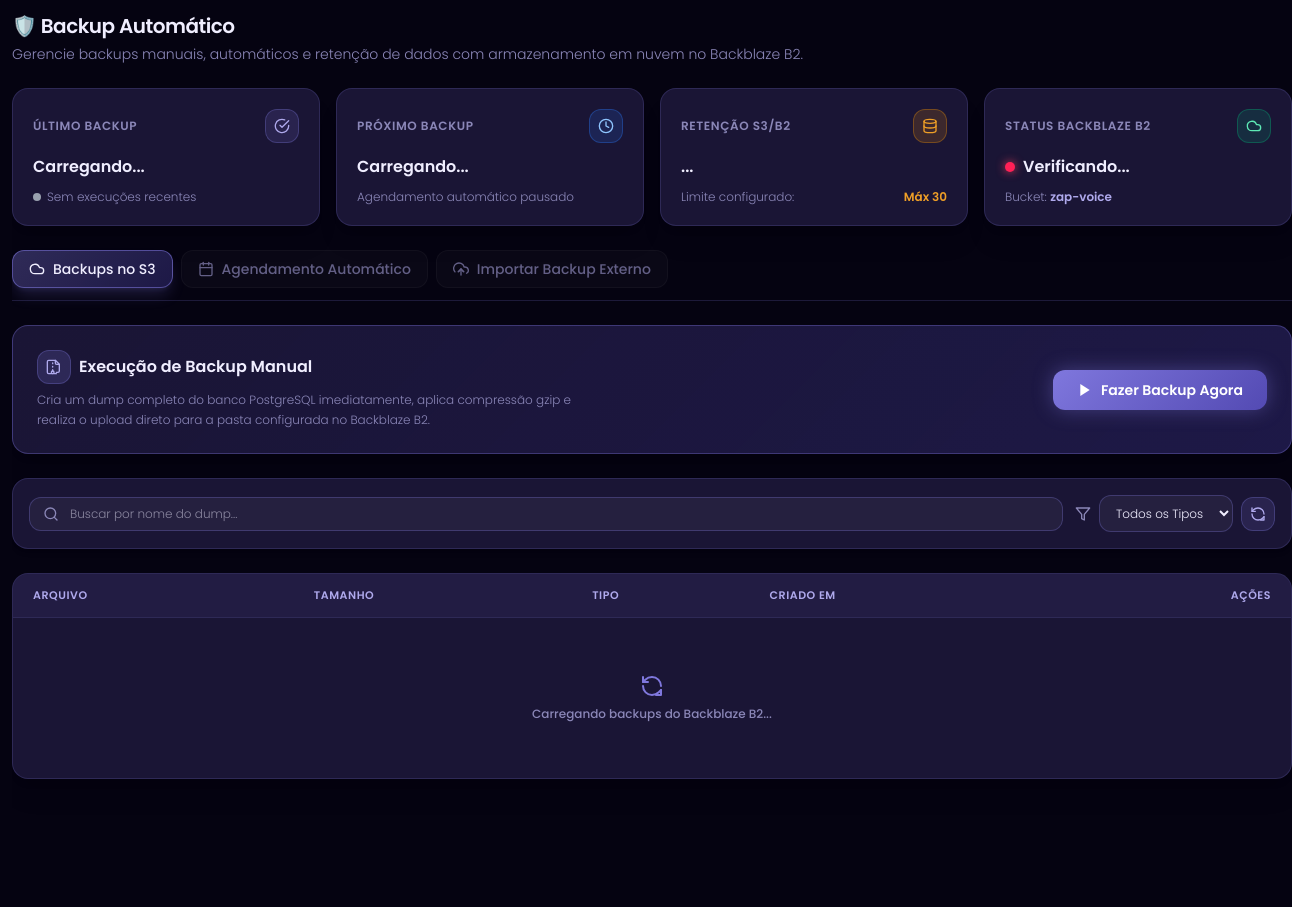
Test: Módulo de Backup Automático (PostgreSQL / Backblaze B2) › deve alternar abas no componente principal BackupAutomatico
Expected: the heading "🛡️ Backup Automático" is shown, [12, 12, 235, 40]
Note: Clicar na aba Agendamento Automático
What coordinates should you click on to do the following:
click the button "Agendamento Automático"
I would click on:
 (304, 269)
Its box is [181, 250, 428, 288].
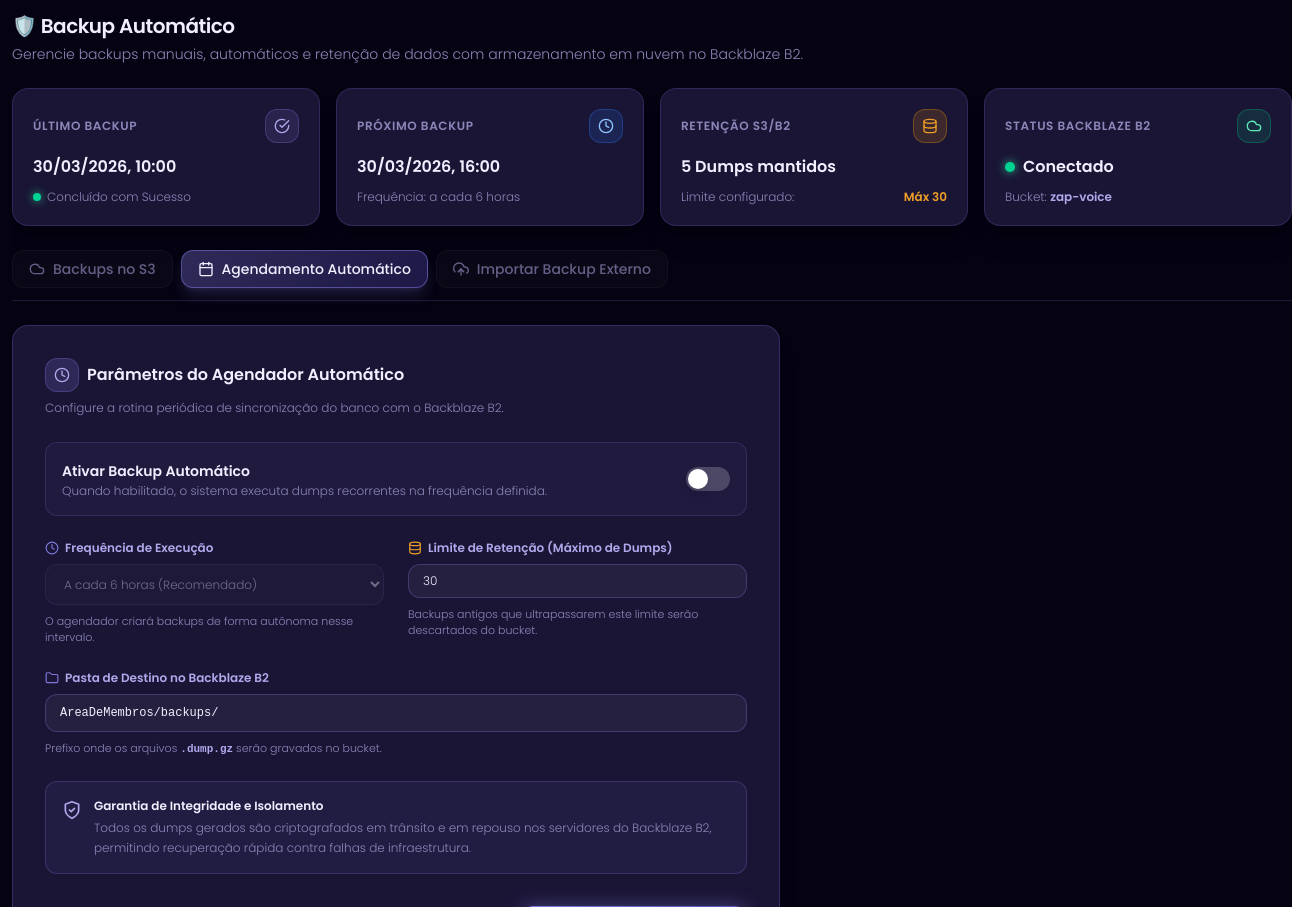
Result: the heading "Parâmetros do Agendador Automático" is shown at [45, 358, 404, 392]
Note: Clicar na aba Importar Backup Externo
What coordinates should you click on to do the following:
click the button "Importar Backup Externo"
I would click on:
 (552, 269)
Its box is [436, 250, 668, 288].
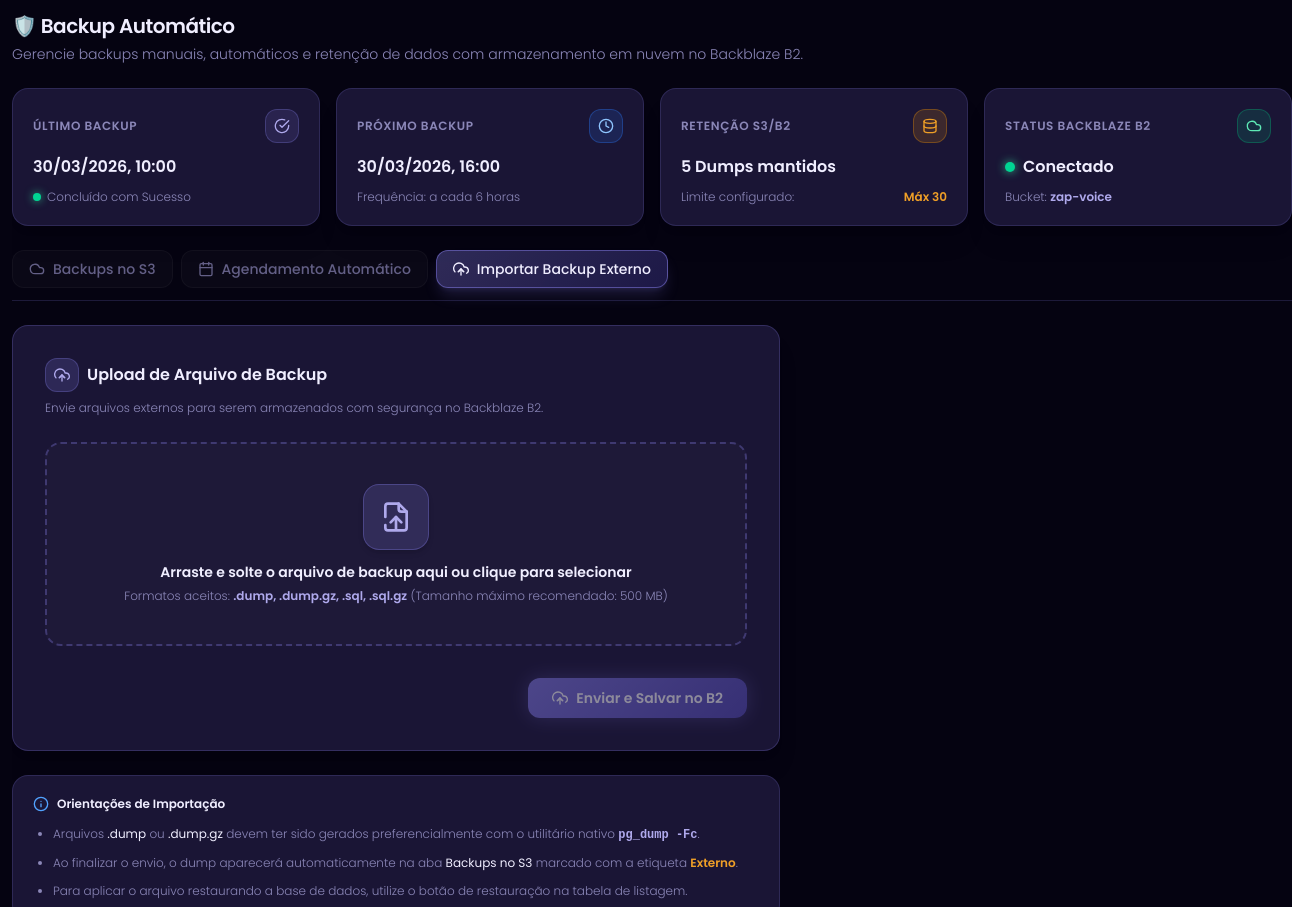
Result: the heading "Upload de Arquivo de Backup" is shown at [45, 358, 327, 392]
Result: the text "Arraste e solte o arquivo de backup aqui" is shown at [160, 562, 632, 582]
